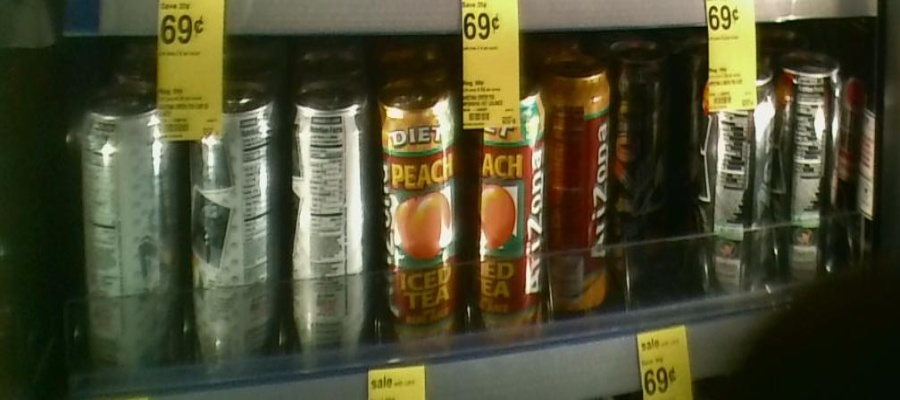bottle: (183, 70, 285, 379), (75, 85, 181, 379), (374, 67, 462, 352), (290, 83, 372, 370), (464, 57, 544, 342), (695, 48, 777, 316), (546, 40, 609, 318), (777, 35, 843, 282), (612, 30, 660, 223)
